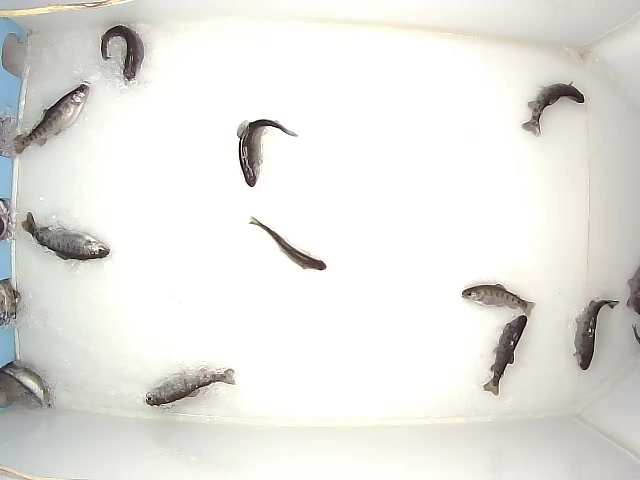fish: (10, 79, 93, 156), (229, 117, 301, 190), (18, 209, 113, 262), (247, 214, 327, 272), (477, 311, 529, 398), (146, 362, 239, 404), (520, 76, 585, 135), (572, 293, 620, 370), (98, 24, 146, 84), (461, 283, 537, 316)
